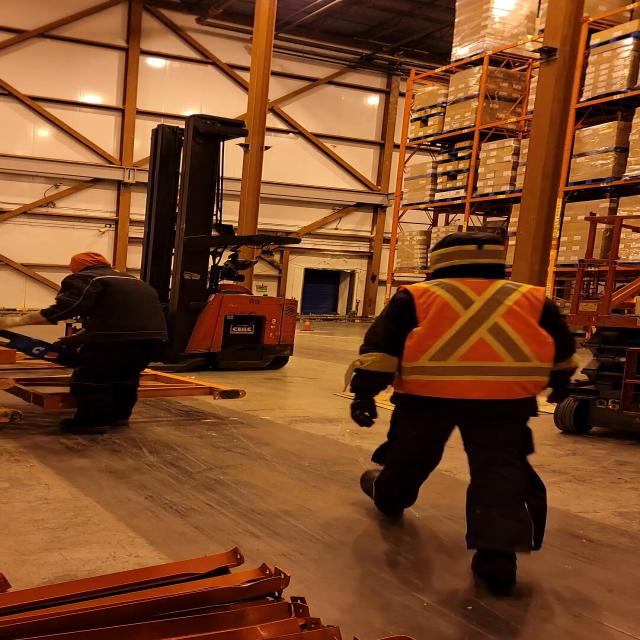forklift: (52, 122, 301, 375)
human: (341, 228, 560, 585), (4, 248, 177, 434)
objectofinterest: (0, 338, 257, 409), (0, 325, 83, 371)
